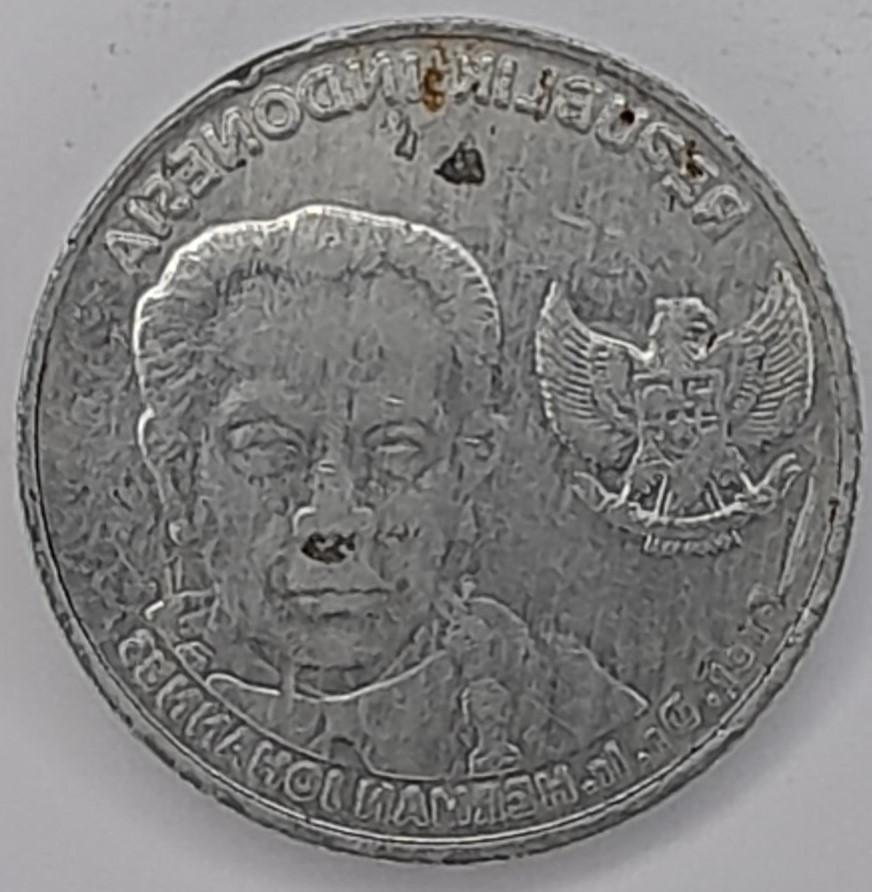coin_100_e2016: (9, 9, 869, 869)
